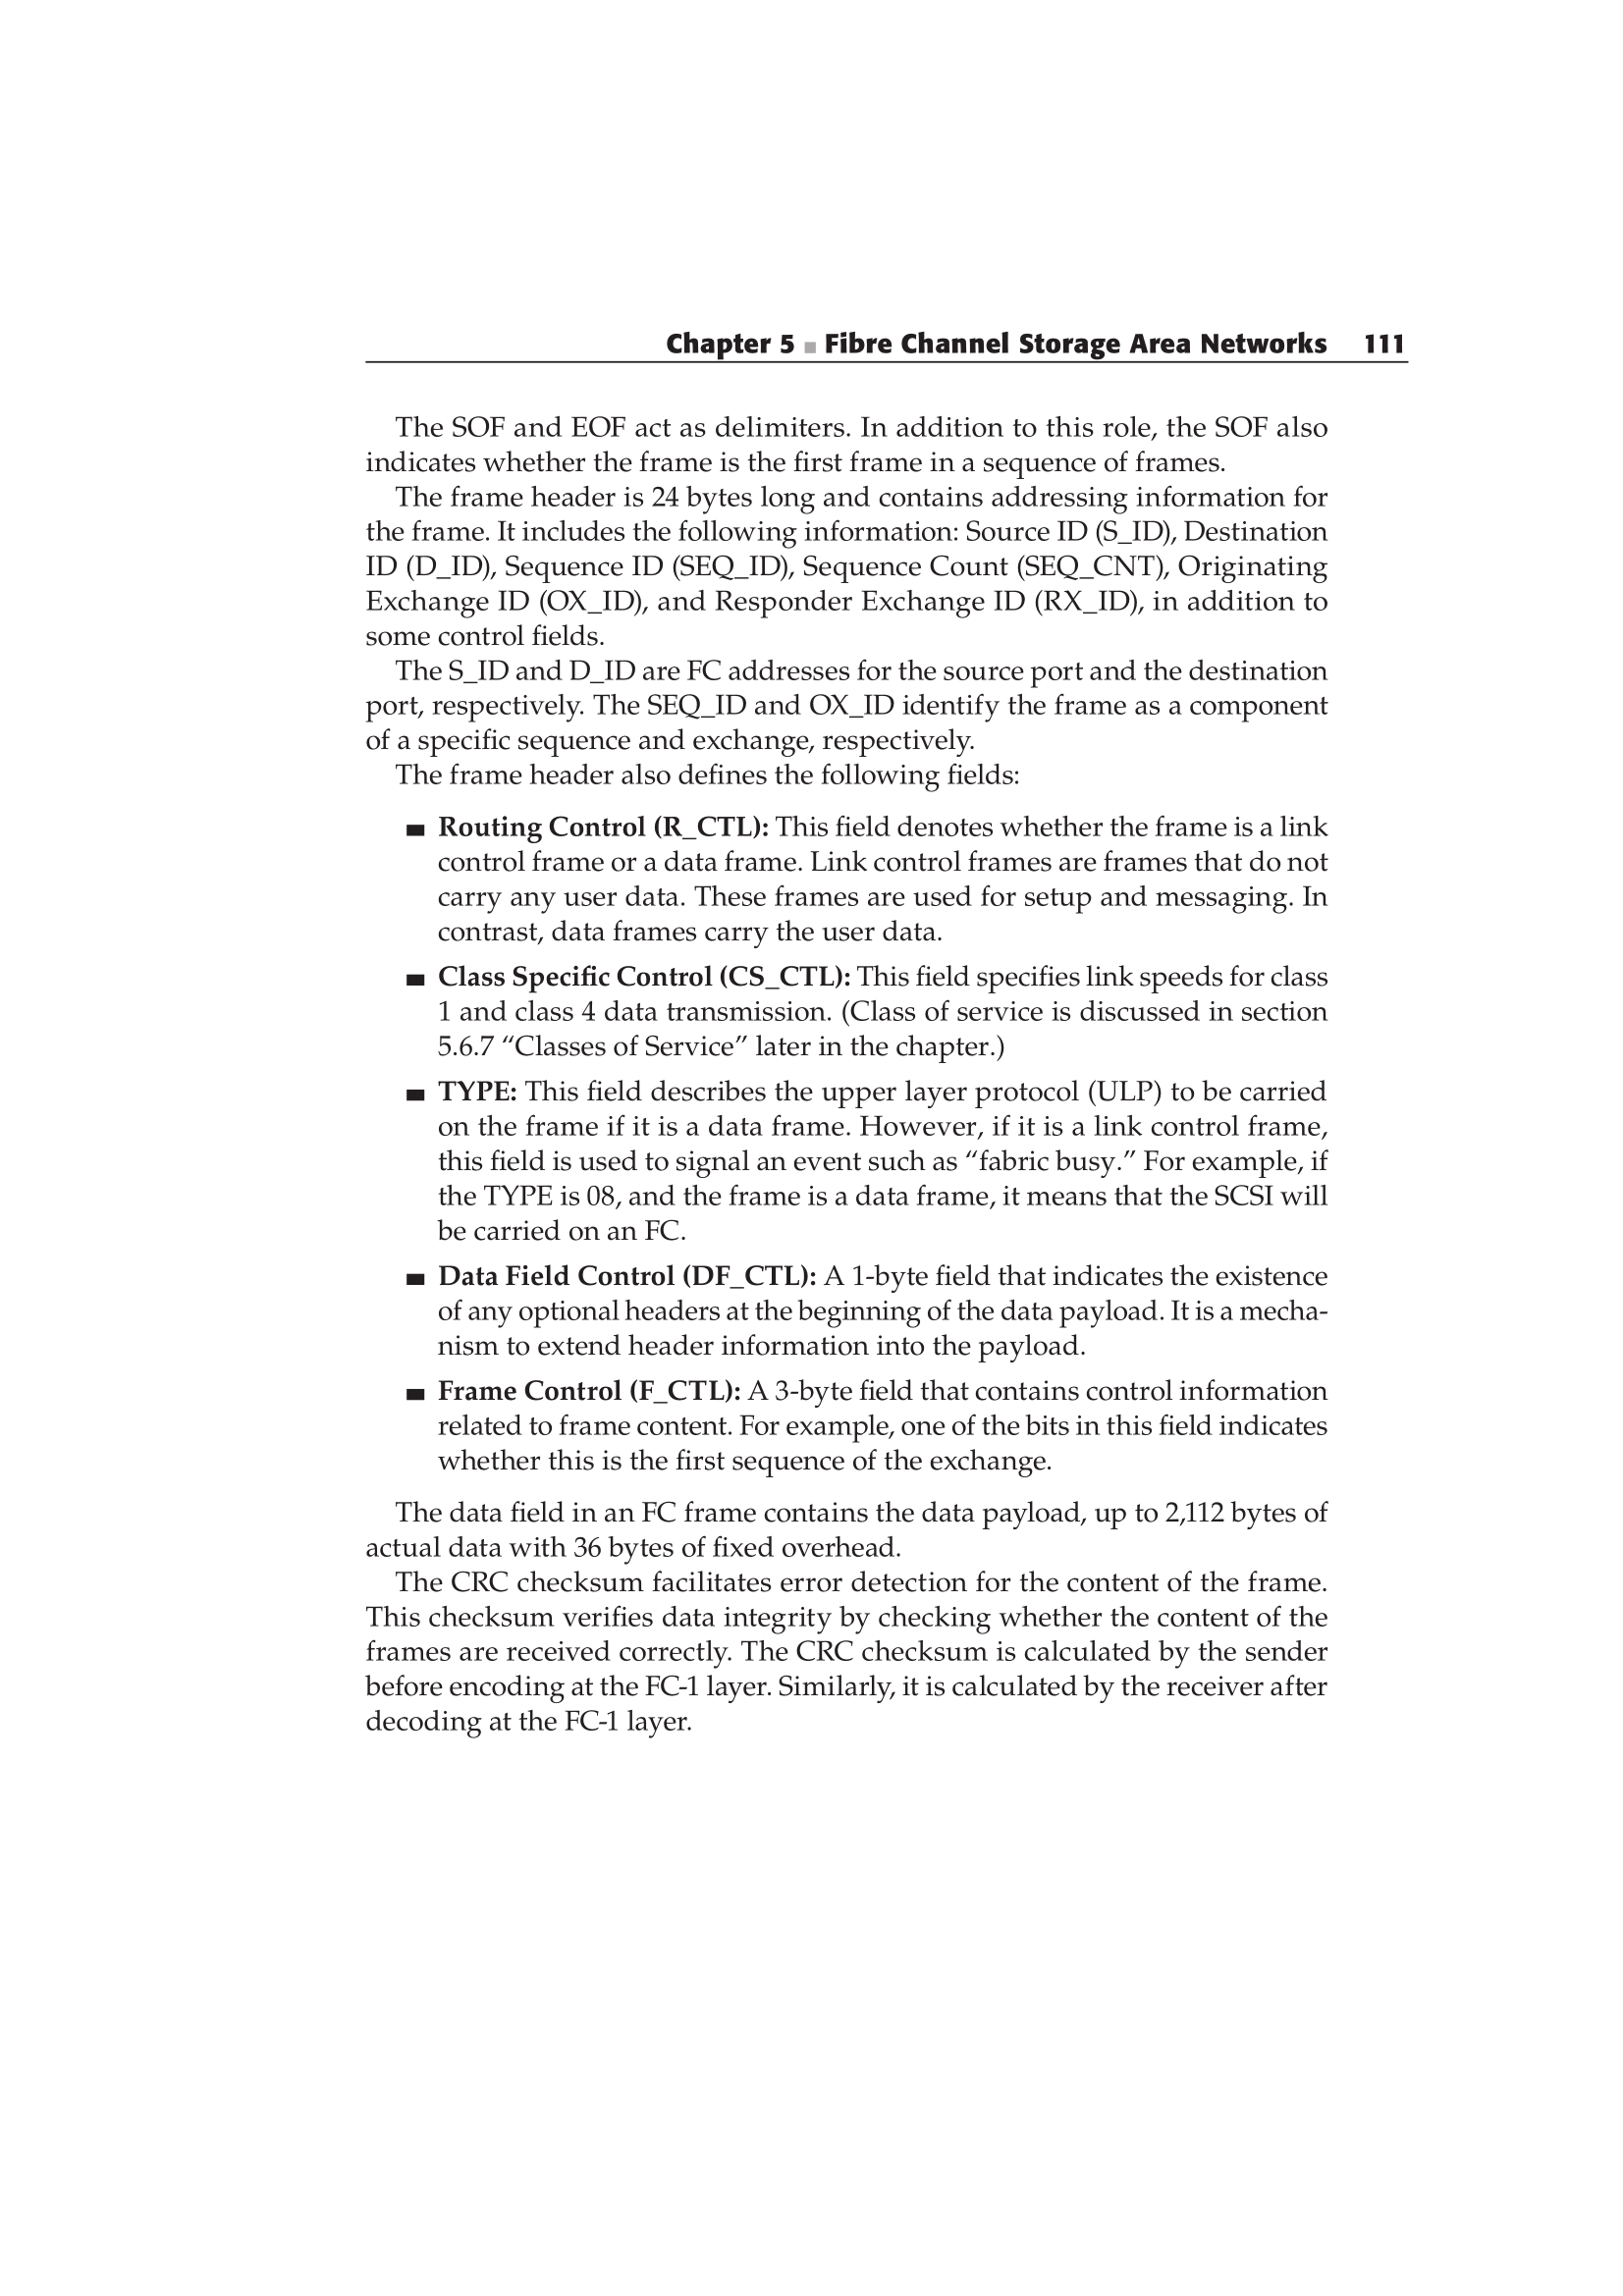Paragraph: (360, 1566, 1324, 1754), (360, 474, 1351, 653), (429, 1067, 1333, 1252), (420, 804, 1333, 953), (429, 1369, 1333, 1483), (425, 1255, 1333, 1360), (429, 958, 1333, 1064), (365, 662, 1328, 758), (360, 402, 1351, 479), (360, 1489, 1333, 1561), (653, 314, 1410, 360), (383, 762, 1042, 793)
